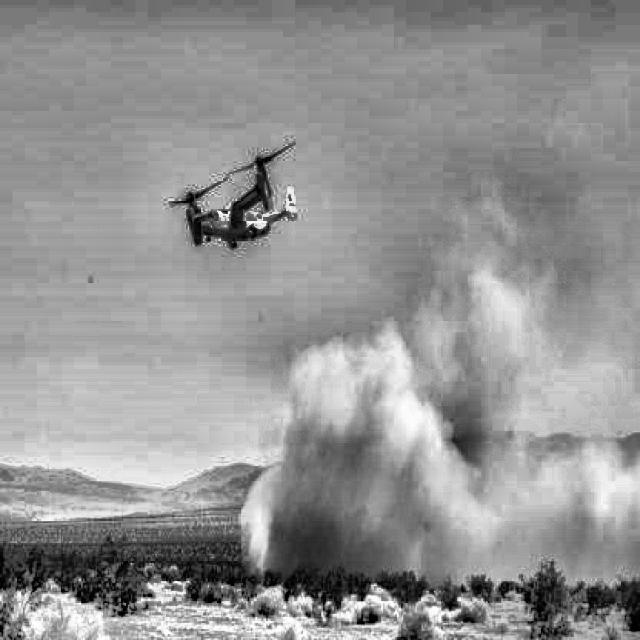V22: (168, 142, 297, 249)
